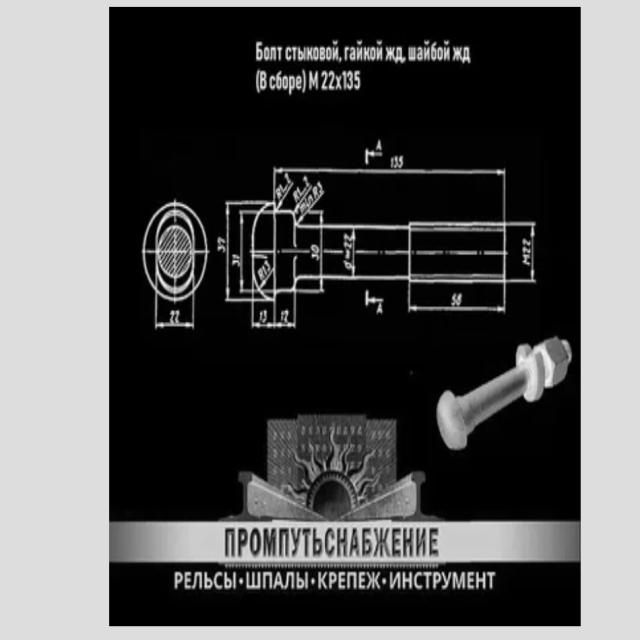marking_line: (297, 167, 506, 223), (273, 168, 507, 199), (225, 199, 255, 304), (406, 284, 507, 312), (505, 223, 536, 284), (239, 210, 252, 294), (154, 302, 194, 329), (298, 190, 323, 222), (252, 304, 277, 329), (273, 305, 298, 327), (319, 215, 325, 291), (277, 182, 293, 210), (295, 184, 311, 212), (364, 290, 385, 308), (350, 230, 356, 276)
numeric: (320, 70, 328, 90), (328, 69, 335, 90), (346, 70, 353, 90), (341, 70, 348, 90), (355, 70, 361, 90), (303, 175, 310, 189), (316, 181, 324, 193), (456, 292, 462, 306), (521, 246, 531, 254), (451, 292, 456, 307), (217, 245, 226, 253), (217, 237, 226, 245), (522, 238, 531, 246), (344, 241, 352, 250), (311, 244, 319, 253), (285, 173, 291, 184), (394, 155, 399, 168), (399, 156, 404, 169), (170, 309, 175, 322), (175, 310, 180, 323), (311, 254, 319, 262), (262, 267, 267, 278), (265, 261, 270, 271), (344, 233, 351, 240), (233, 260, 241, 266), (232, 253, 240, 259), (391, 157, 395, 168)
special_symbol: (364, 150, 383, 166)
